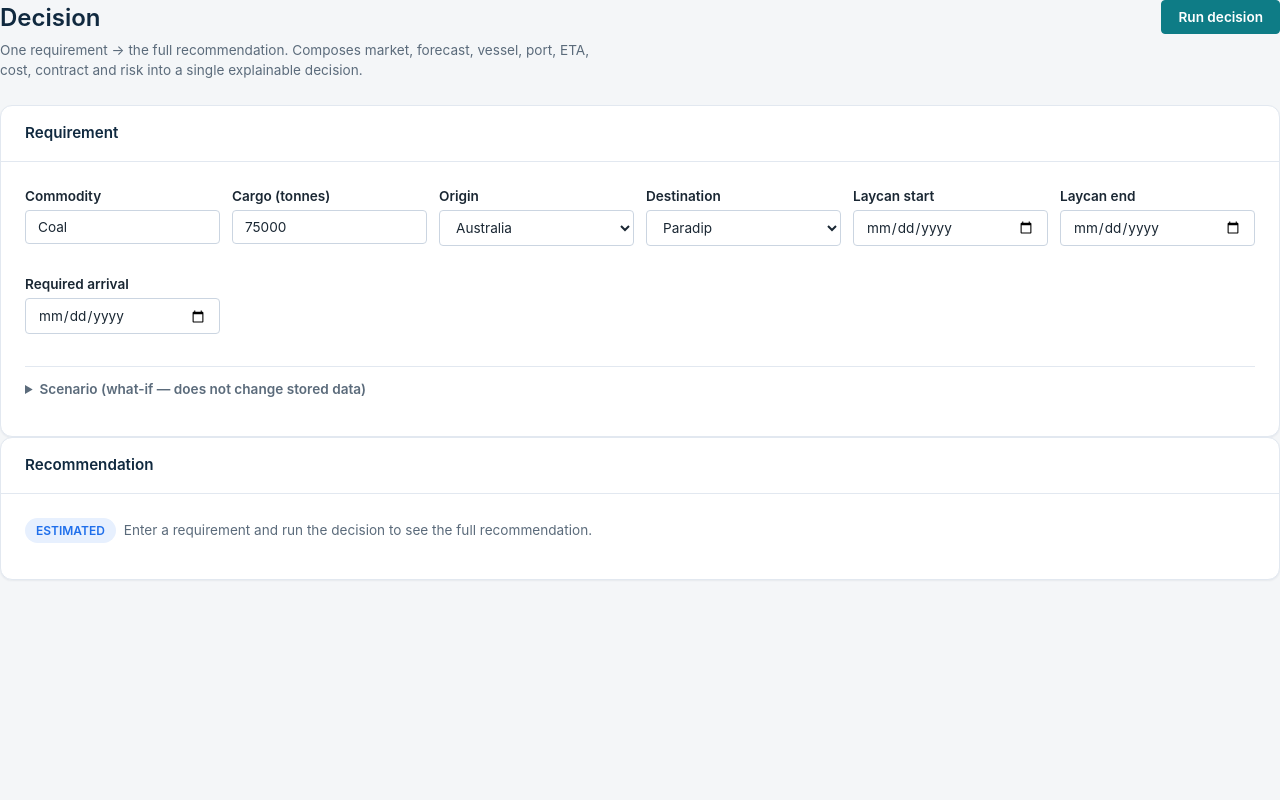
Scenario: DecisionPage › runs the unified decision and shows the recommendation + all sections
Click the button "Run decision": [1221, 17] box left=1161, top=0, right=1279, bottom=34
(page scrolled)
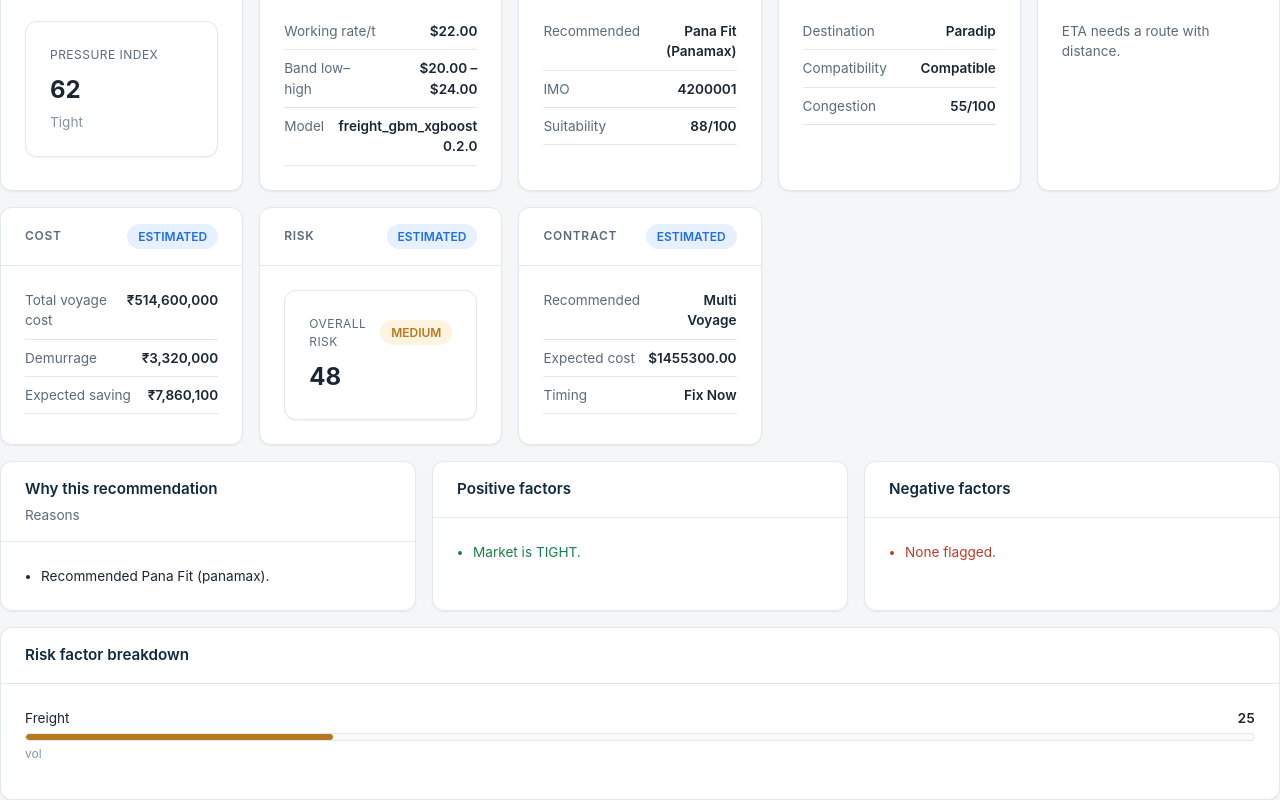
Result: the text "Cost" is shown at left=25, top=228, right=62, bottom=243
Result: the text "Contract" is shown at left=543, top=228, right=617, bottom=243
Result: the list item "Recommended Pana Fit (panamax)." is shown at left=41, top=568, right=270, bottom=584
